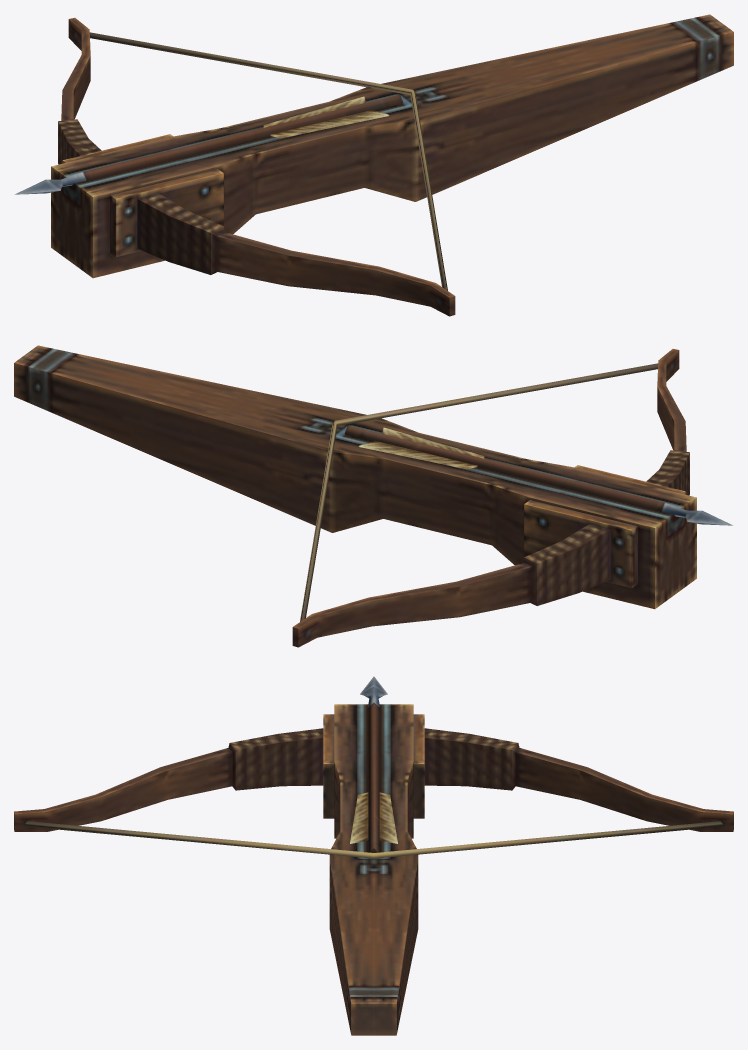
Rendered from Crossbow02.FBX.
3 renders of one model, top to bottom at view 1: azimuth 30°, elevation 25°; view 2: azimuth 150°, elevation 25°; view 3: azimuth 270°, elevation 25°, orthographic. The views are drawn at different scales.
Parts seen in each view (by area): view 1: Crossbow02; view 2: Crossbow02; view 3: Crossbow02.
Boxes of the visible parts, x1,y1,x2,y2 form: Crossbow02: [14, 14, 733, 316]; Crossbow02: [14, 345, 733, 647]; Crossbow02: [14, 676, 733, 1035].
Bounding box in the file's own units: 93.14 × 11.33 × 86.79.
